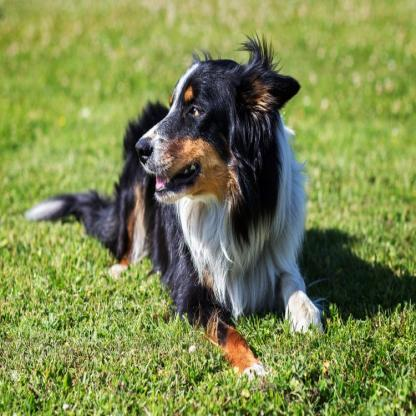Border Collie: (118, 46, 316, 354)
